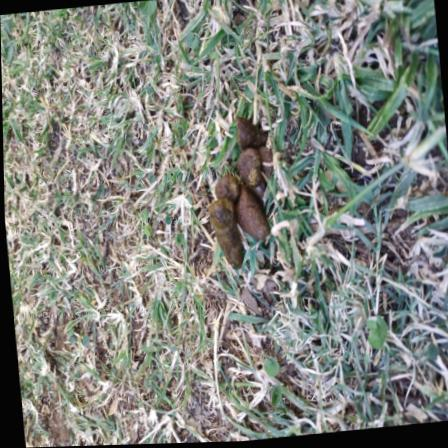dog-poop: (182, 106, 290, 287)
